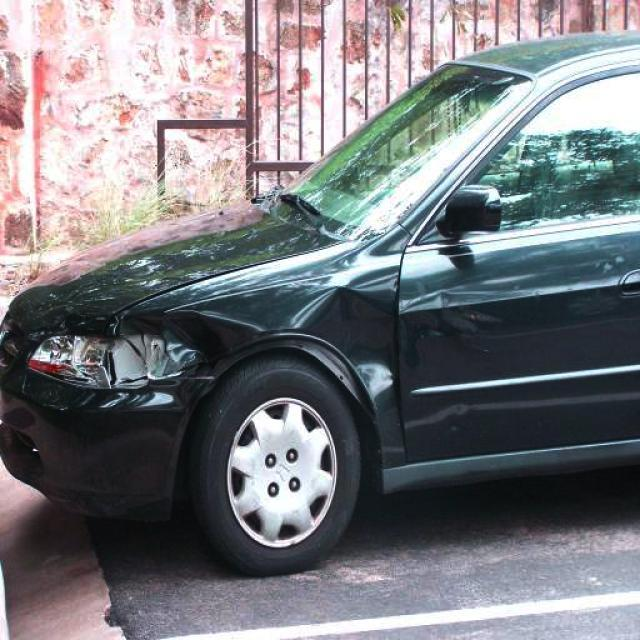car damage: (291, 286, 399, 417), (23, 333, 209, 388)
